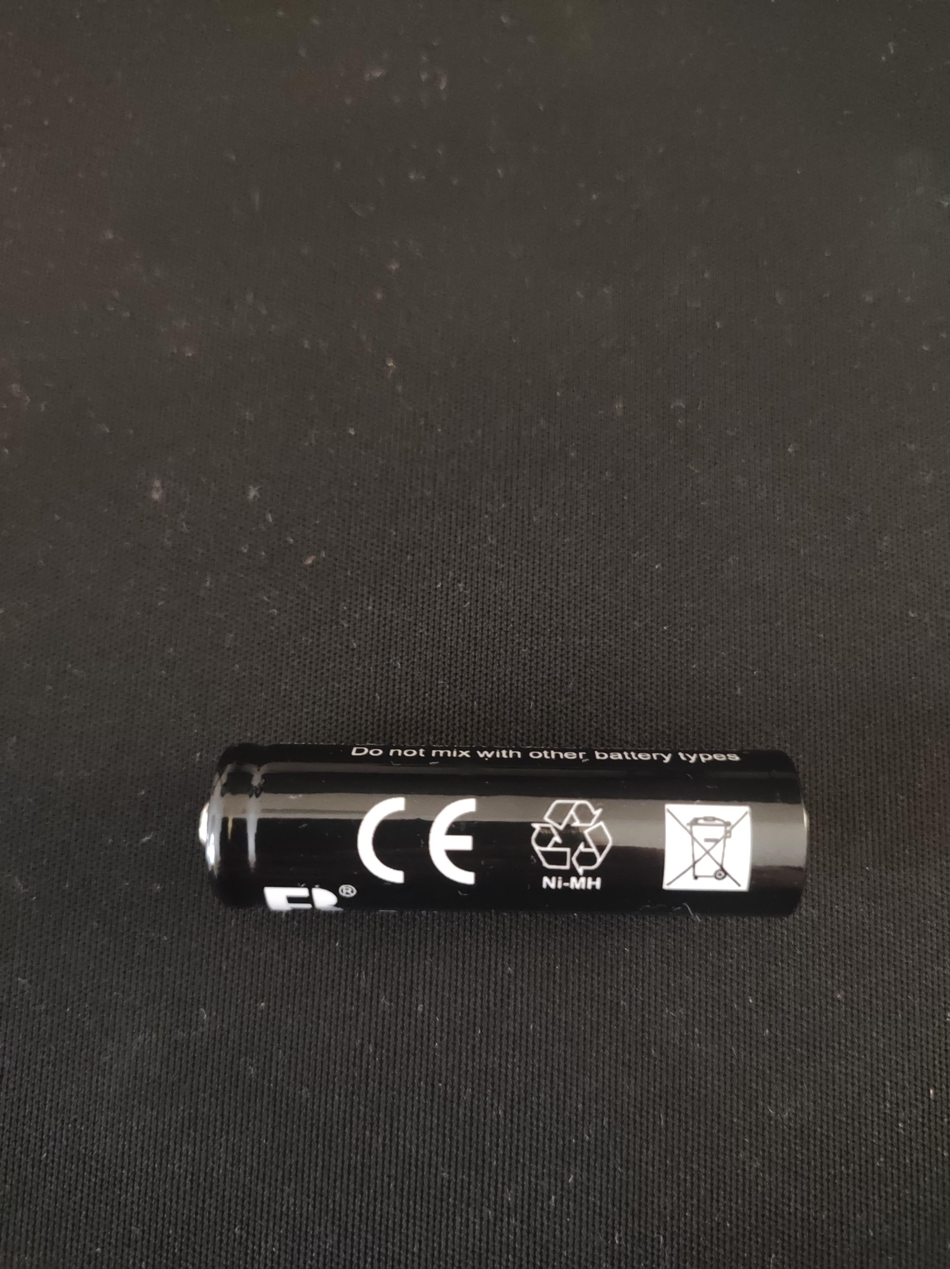AA: (197, 740, 810, 918)
